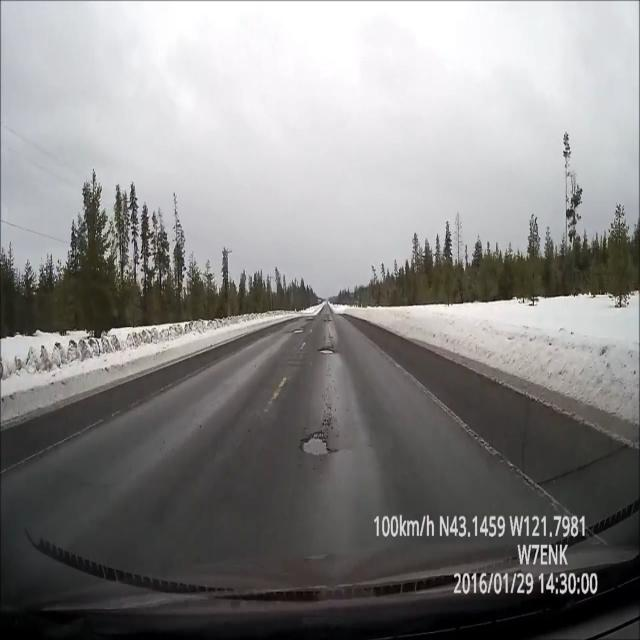Pothole: (296, 418, 344, 460), (314, 340, 342, 357)
